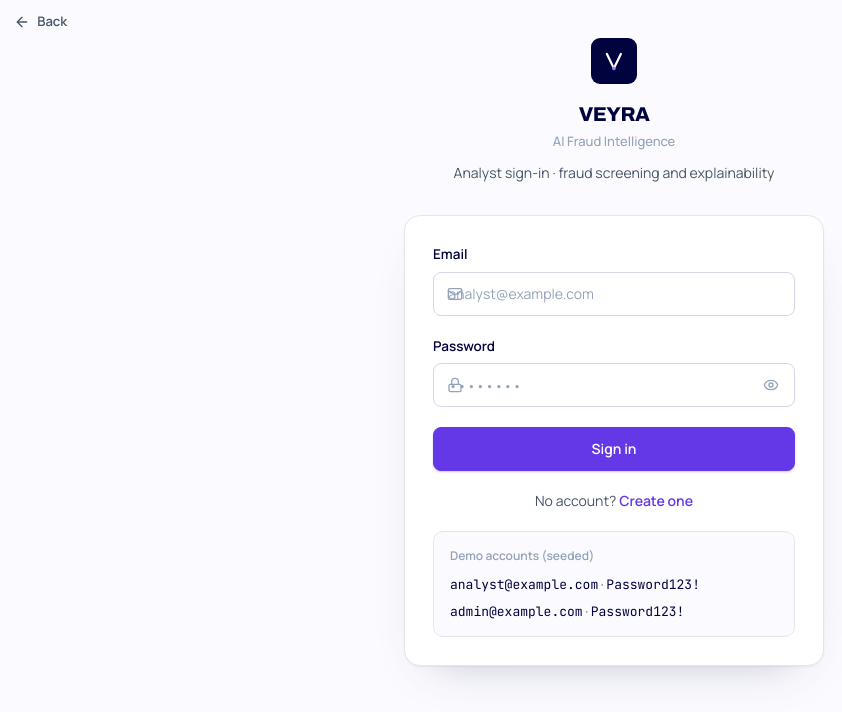
Scenario: Login page › shows validation errors for empty fields
Click the button "Sign in": coordinates (614, 449) [433, 427, 795, 471]
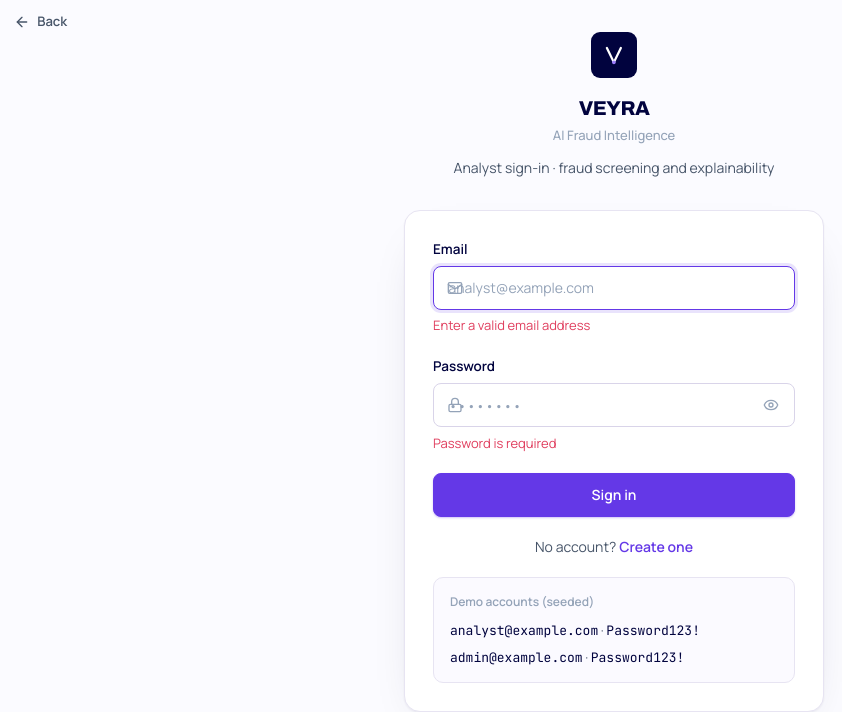
Expected: the text "Enter a valid email address" is shown, [433, 316, 590, 334]
Expected: the text "Password is required" is shown, [433, 434, 556, 452]
